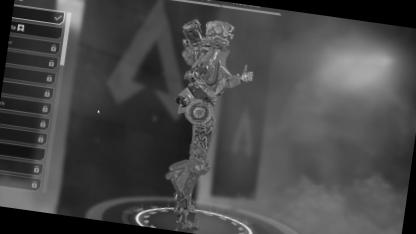Target: (162, 14, 237, 195)
